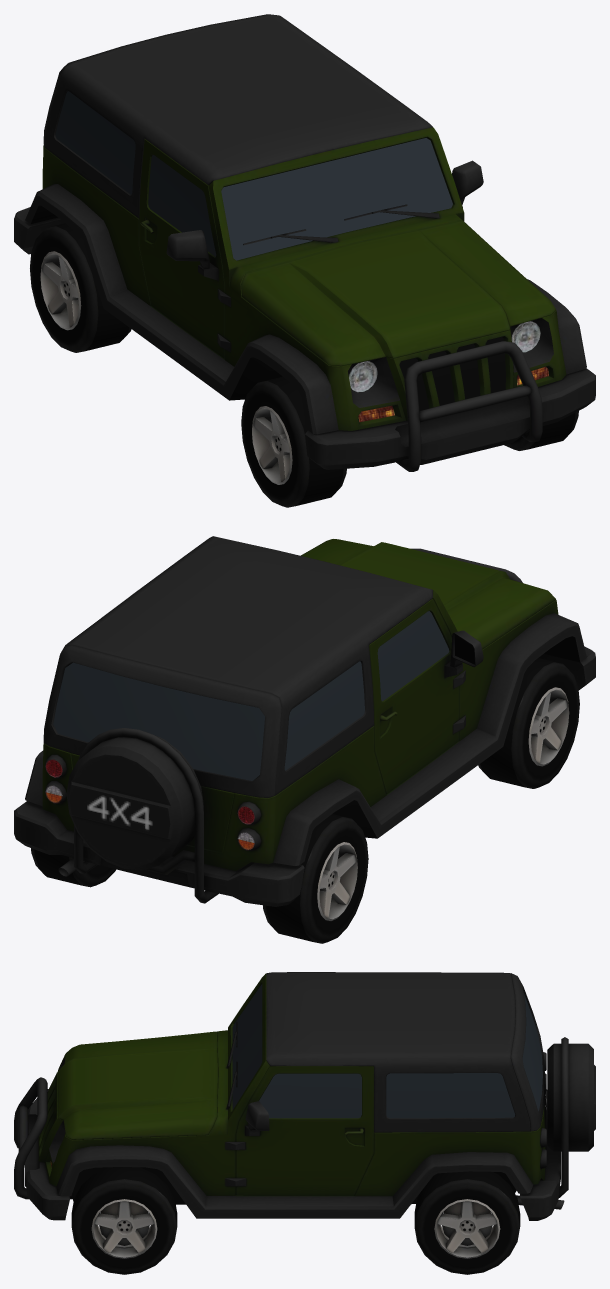
Rendered from car_offroad.gltf.
3 renders of one model, top to bottom at view 1: azimuth 30°, elevation 25°; view 2: azimuth 150°, elevation 25°; view 3: azimuth 270°, elevation 25°, orthographic. The views are drawn at different scales.
Parts seen in each view (by area): view 1: car_offroad; view 2: car_offroad; view 3: car_offroad.
Boxes of the visible parts, x1,y1,x2,y2 form: car_offroad: (14, 14, 595, 507); car_offroad: (14, 536, 595, 943); car_offroad: (14, 972, 595, 1274).
Bounding box in the file's own units: 2.19 × 1.75 × 4.4.
Materials: 1 (1 with a texture image).
